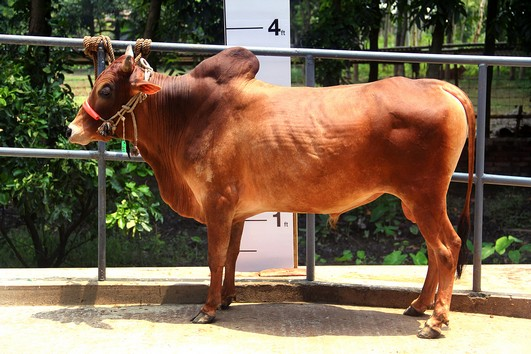cow: (57, 34, 473, 339)
